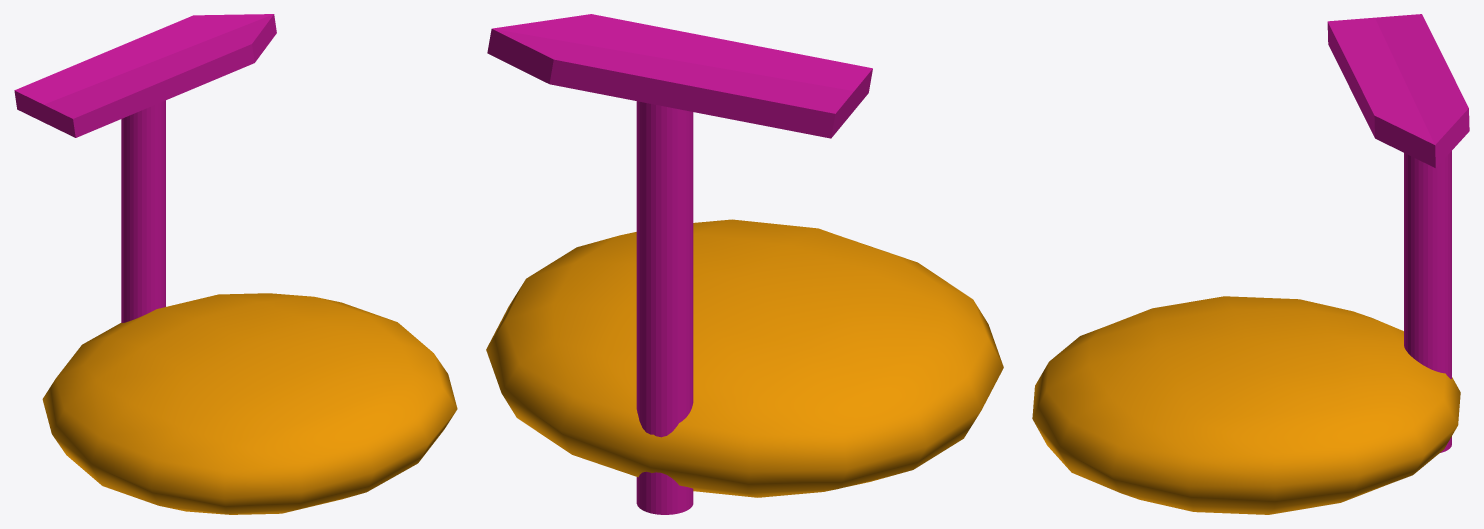
Rendered from field.fbx.
The picture shows the model from 3 angles, left to right: view 1: azimuth 30°, elevation 25°; view 2: azimuth 150°, elevation 25°; view 3: azimuth 270°, elevation 25°; orthographic projection. The views are drawn at different scales.
Parts seen in each view (by area): view 1: Cube.025; view 2: Cube.025; view 3: Cube.025.
Boxes of the visible parts, x1,y1,x2,y2 form: Cube.025: (14,14,457,514); Cube.025: (486,14,1003,514); Cube.025: (1032,14,1469,514).
Size of the model in its own units: 356 by 357 by 364.
